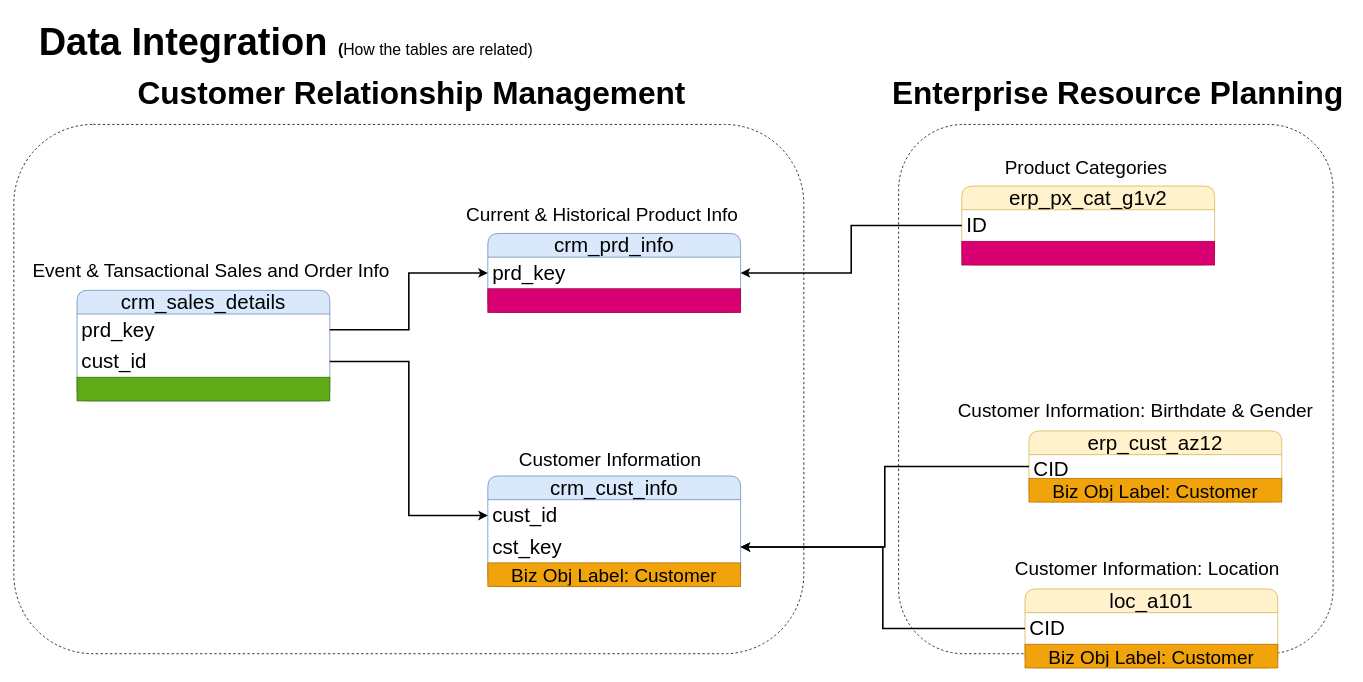
Image size: 1363x682. Some labels were removed from this diagram. The centre of each missing label's shape, as x and y in pixels:
Biz Obj Label: Product: pixel 1088 253
Biz Obj Label: Sales: pixel 203 388
Biz Obj. Label: Product: pixel 614 300
